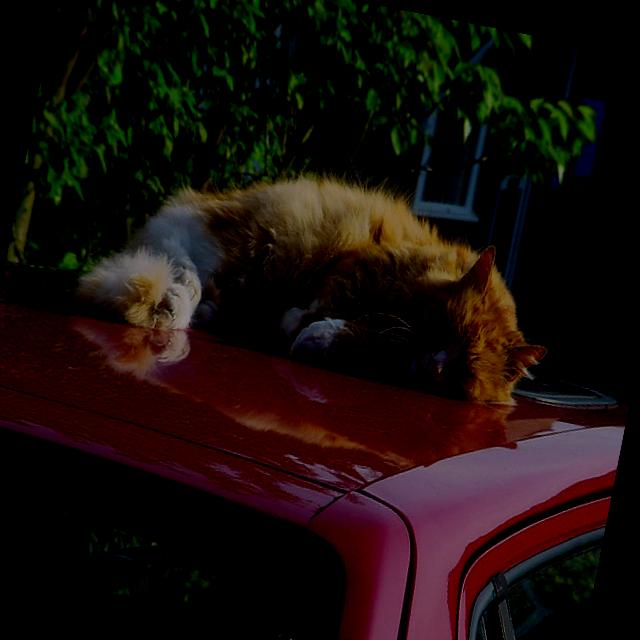Vehicle: (0, 262, 633, 640)
